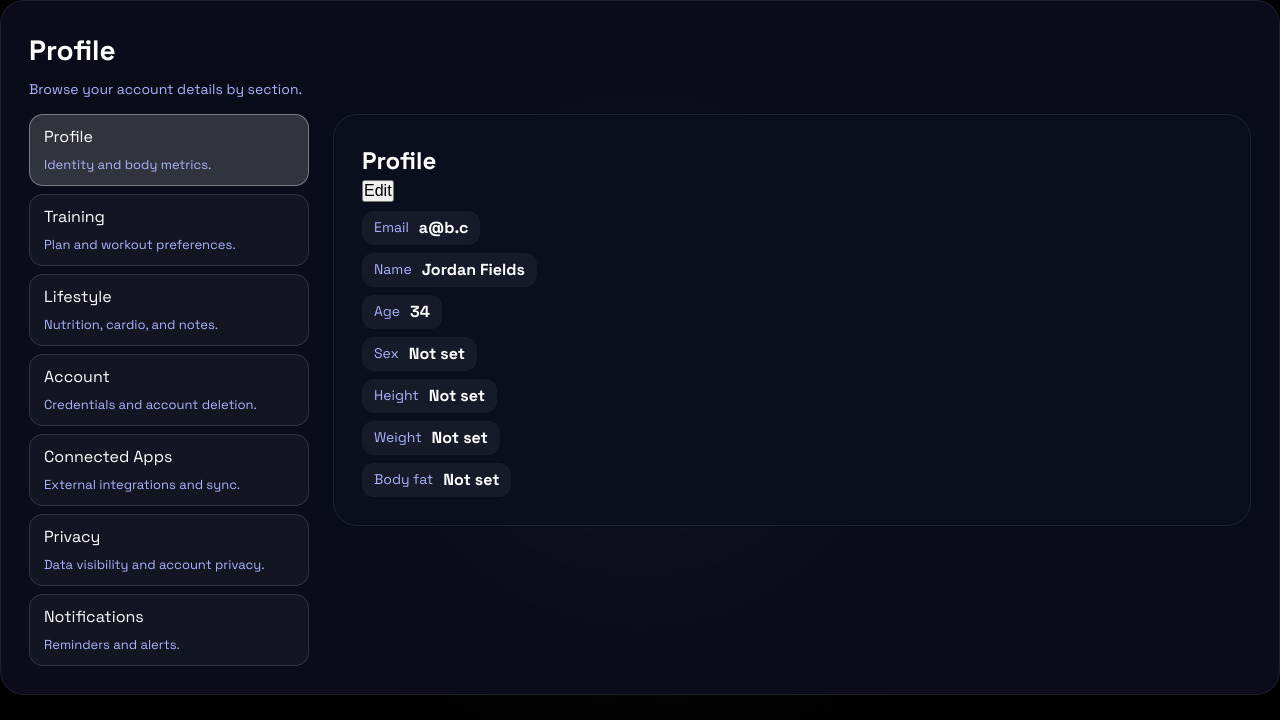
editing a tab › swaps the rows for a form when Edit is clicked
Click the button "Edit". click: (378, 191)
box: [362, 180, 394, 202]
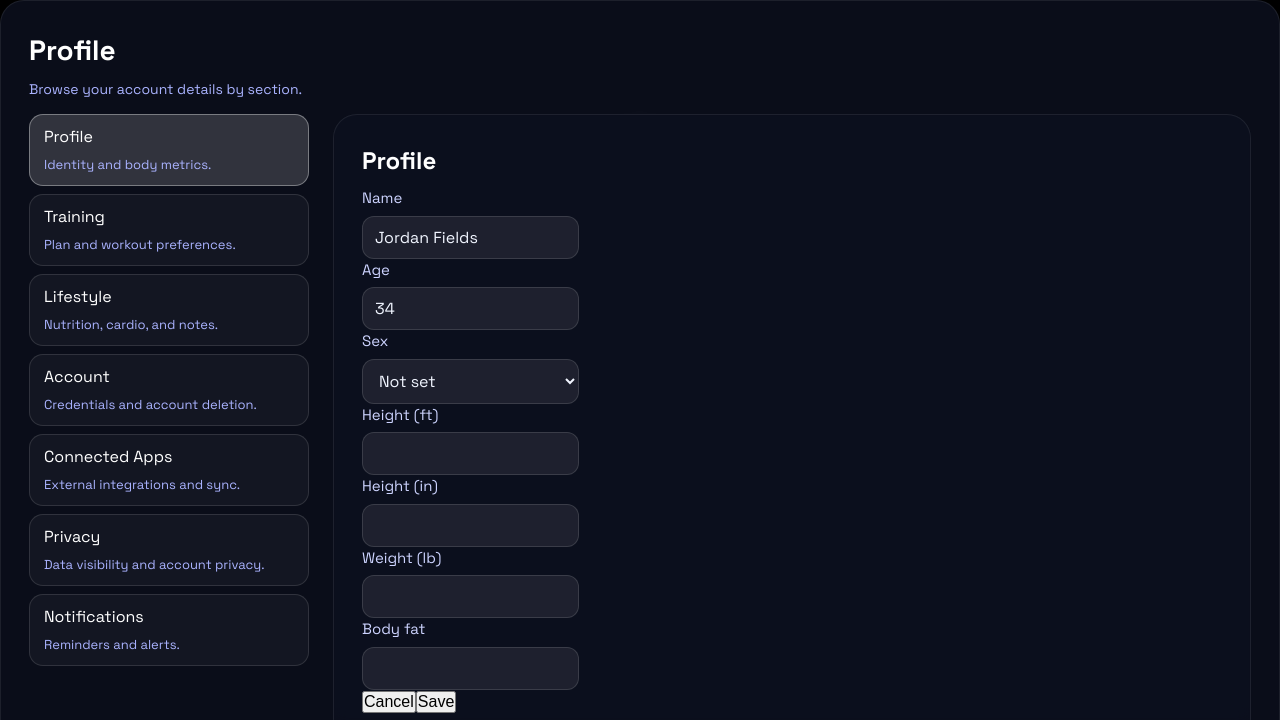
Now the number field labelled "Age" is shown, box [362, 287, 579, 330]
Now the button "Save" is shown, box [416, 690, 456, 712]
